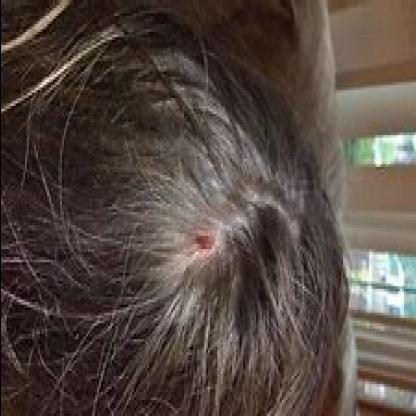Tick: (185, 228, 227, 268)
